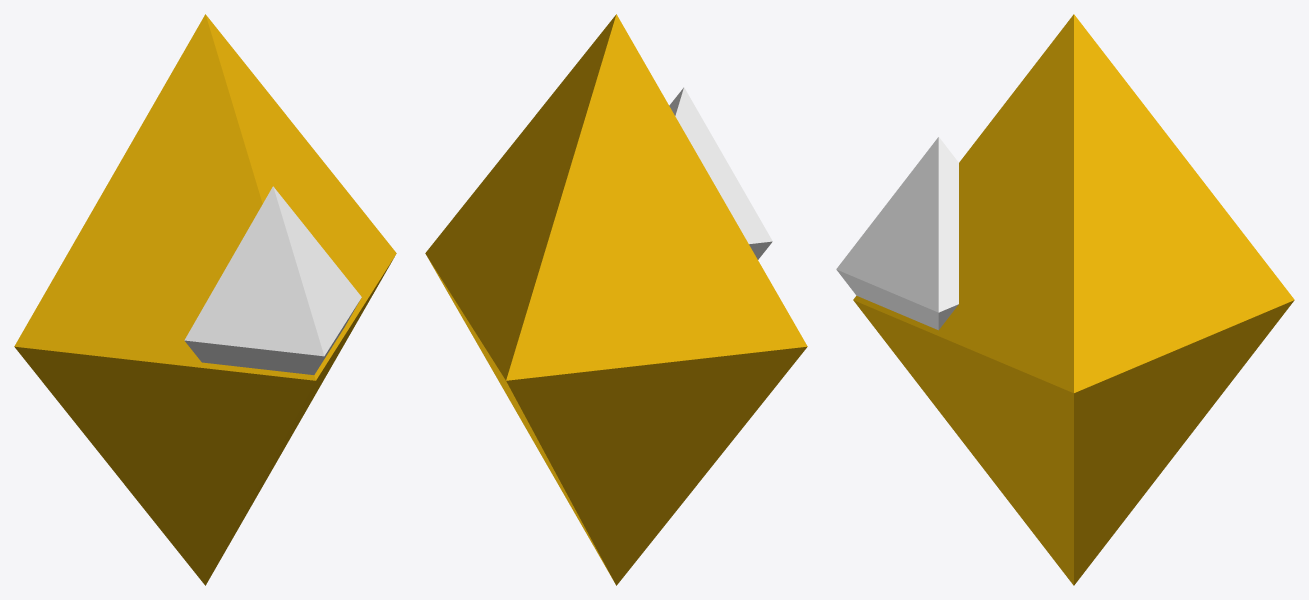
The model's file is loot_ember.glb.
3 views of the same model, side by side, from view 1: azimuth 30°, elevation 25°; view 2: azimuth 150°, elevation 25°; view 3: azimuth 270°, elevation 25° (orthographic).
Visible parts, largest first — view 1: loot_ember_Mesh; view 2: loot_ember_Mesh; view 3: loot_ember_Mesh.
Boxes of the visible parts, x1,y1,x2,y2 form: loot_ember_Mesh: (14,14,396,585); loot_ember_Mesh: (425,14,807,585); loot_ember_Mesh: (836,14,1294,585).
Bounding box in the file's own units: 0.392 × 0.56 × 0.407.
